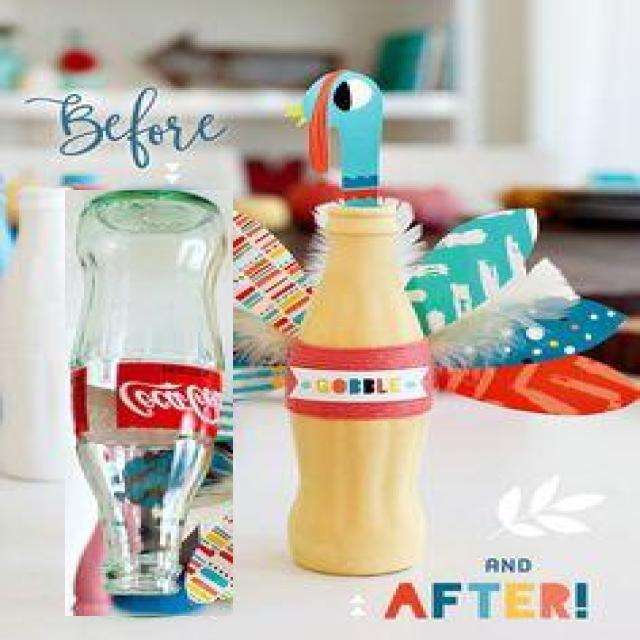coca-cola: (65, 190, 233, 616)
